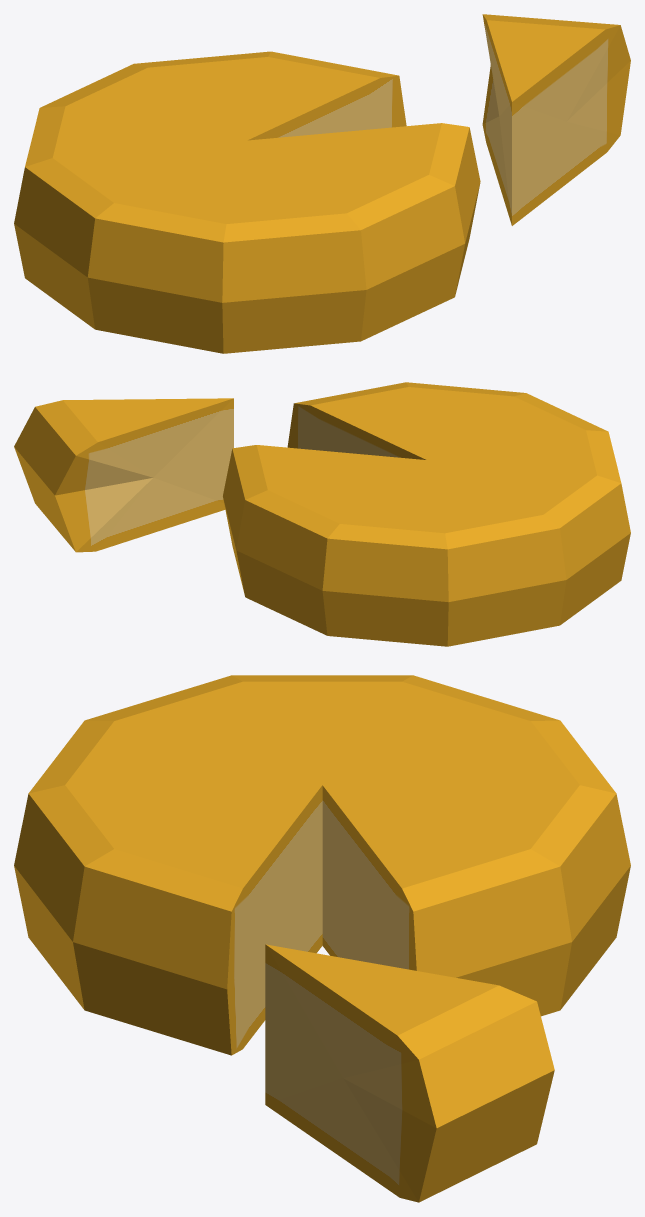
The model's file is cheese.fbx.
3 views of the same model, one above another, from view 1: azimuth 30°, elevation 25°; view 2: azimuth 150°, elevation 25°; view 3: azimuth 270°, elevation 25° (orthographic). The views are drawn at different scales.
Visible parts, largest first — view 1: Cylinder.001; view 2: Cylinder.001; view 3: Cylinder.001.
Boxes of the visible parts, x1,y1,x2,y2 form: Cylinder.001: (14, 14, 630, 353); Cylinder.001: (14, 382, 630, 646); Cylinder.001: (14, 675, 630, 1202).
Size of the model in its own units: 317 by 62.57 by 210.
1 material, 1 textured.
